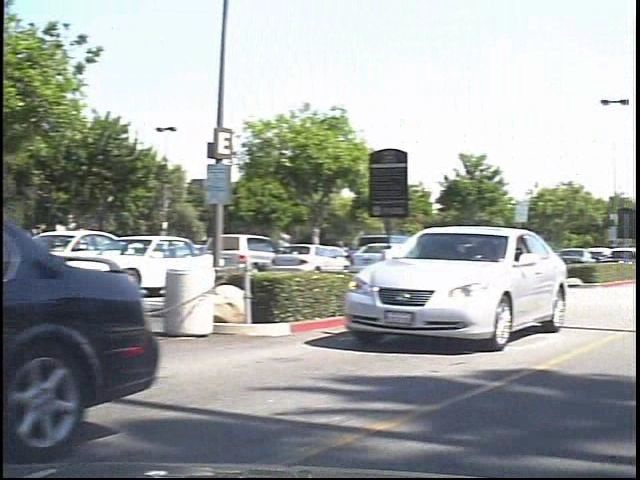person: (279, 224, 306, 275)
